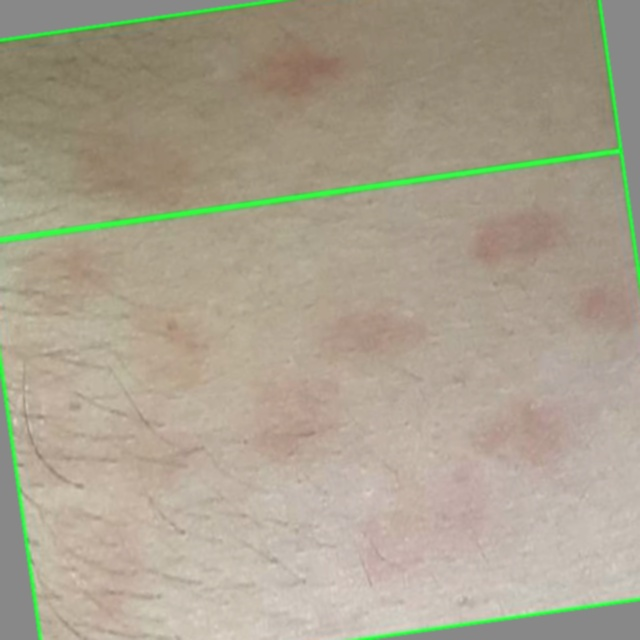Tinea Corporis: (0, 150, 639, 639), (0, 0, 622, 241)
